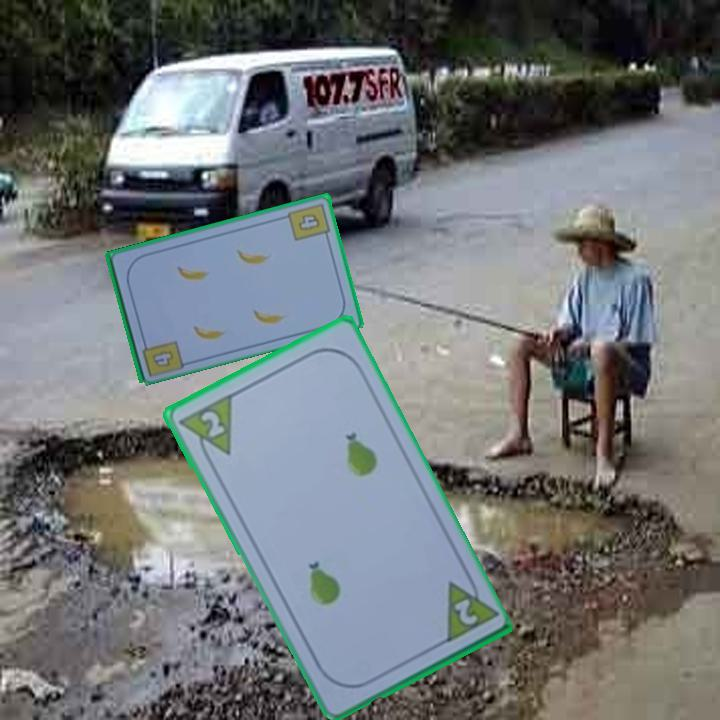2p: (196, 406, 228, 441), (449, 594, 481, 628)
4b: (284, 199, 332, 244), (149, 346, 177, 370)
